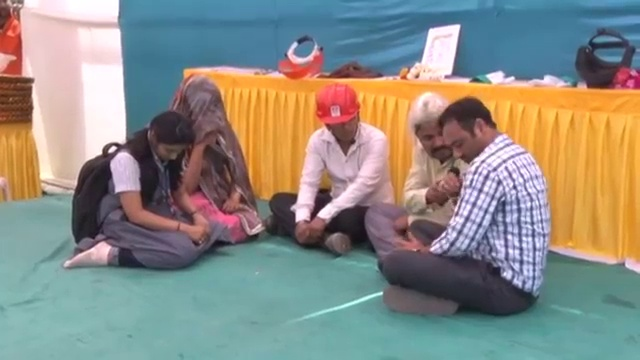helmet: (310, 89, 361, 133), (0, 51, 18, 75)
helmet_off: (439, 98, 497, 166), (407, 92, 460, 165), (173, 73, 228, 143), (138, 111, 197, 168), (0, 1, 15, 24)
helmet_on: (312, 85, 367, 146)
person: (378, 85, 554, 315), (262, 76, 415, 259), (69, 107, 240, 262), (361, 91, 471, 252), (0, 4, 26, 80)
